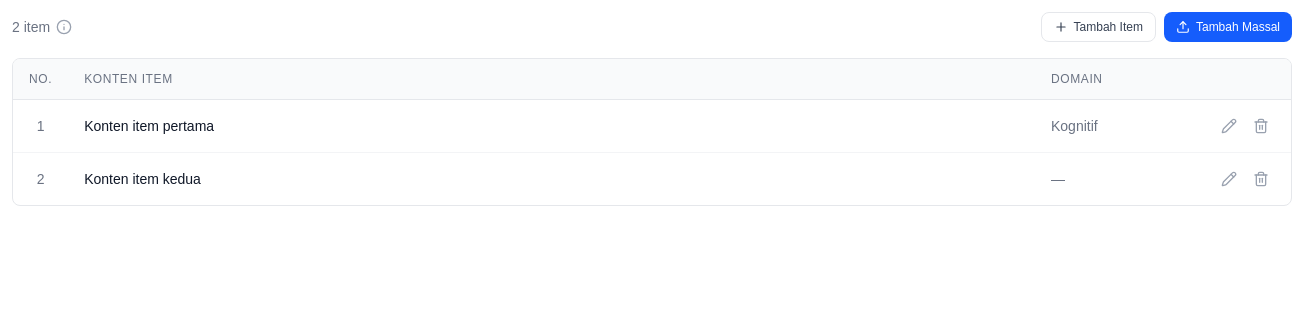
ItemsManager › harus menampilkan error saat simpan edit item gagal
Click the button titled "Edit" in the row of "Konten item pertama": (1229, 126) top-left (1215, 112), bottom-right (1243, 140)
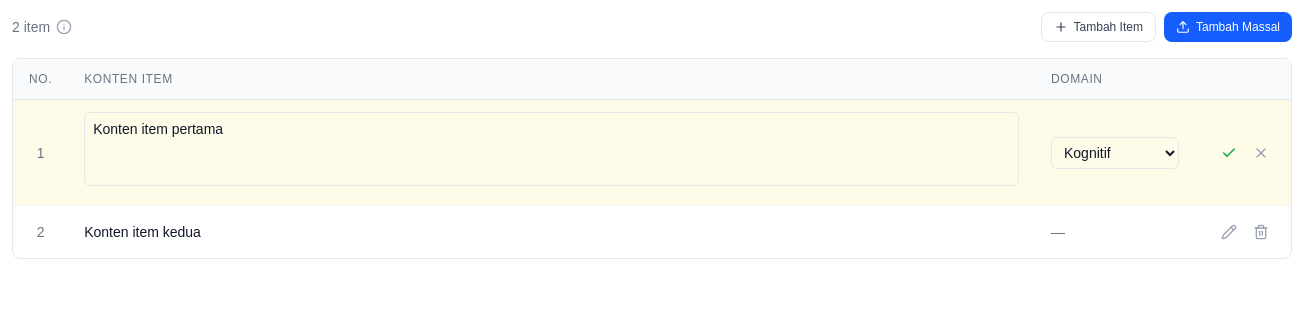
Click the button titled "Simpan": (1229, 152) top-left (1215, 138), bottom-right (1243, 166)
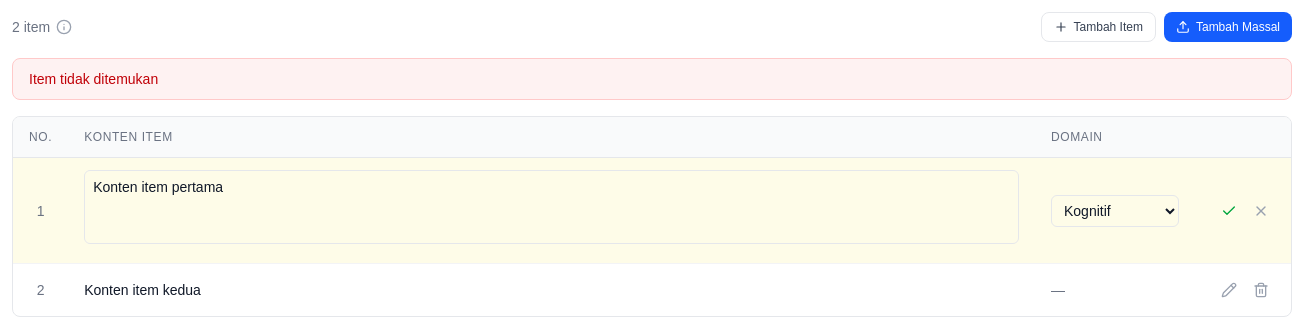
Now the text "Item tidak ditemukan" is shown, box top-left (12, 58), bottom-right (1292, 100)
